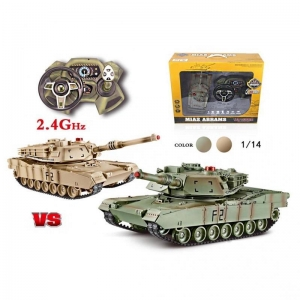Battle Tank: (112, 167, 289, 237), (5, 135, 135, 191)
